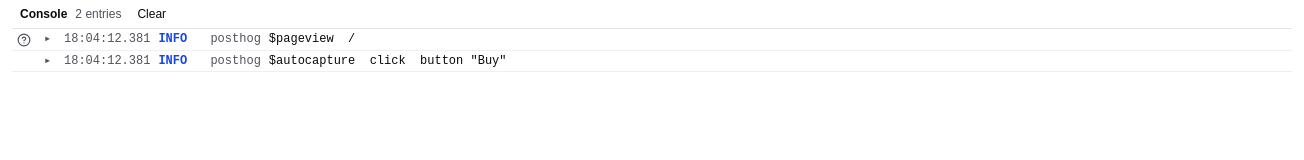
Test: ConsoleEntryList › help column › a click opens it and a second click closes it, for touch screens
Click the button named "About $pageview": (24,40) [14,30,34,50]
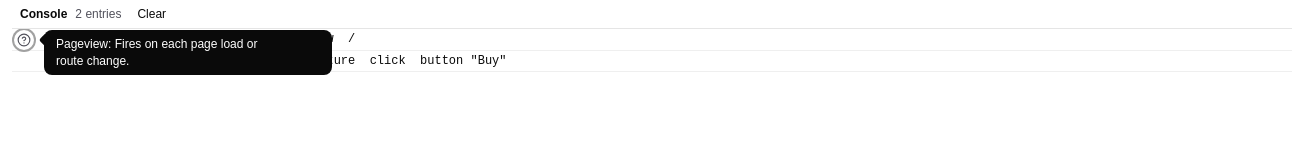
Expected: the tooltip reads "Pageview: Fires on each page load or route change.", [56,37,258,68]
Click the button named "About $pageview": (24,40) [14,30,34,50]
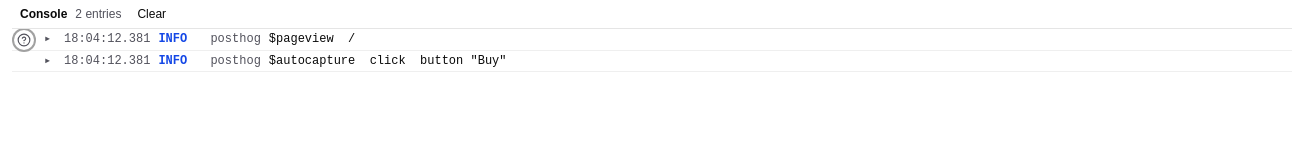
Expected: the tooltip "Pageview: Fires on each page load or route change." is gone
